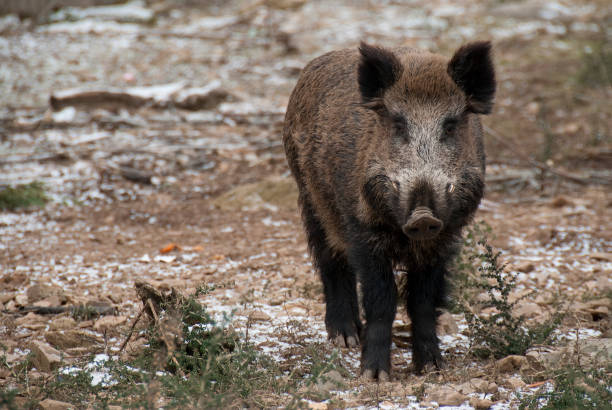pig: (281, 46, 487, 377)
